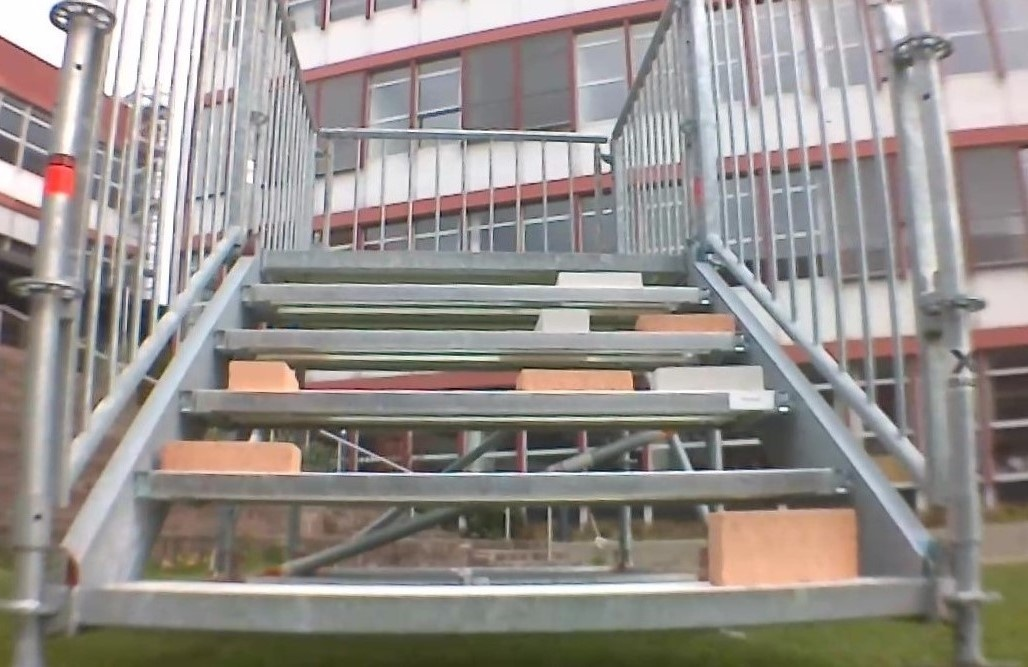brick: (708, 510, 857, 588), (161, 440, 299, 474), (649, 366, 760, 391), (516, 370, 630, 391), (634, 313, 735, 331), (229, 362, 295, 389), (534, 308, 589, 331), (554, 273, 642, 287)
edge: (80, 580, 930, 633), (138, 469, 850, 501), (178, 390, 793, 412), (210, 330, 748, 348), (260, 250, 684, 272), (238, 283, 708, 301)
stairs: (11, 1, 994, 661)
steps: (73, 245, 934, 643)
